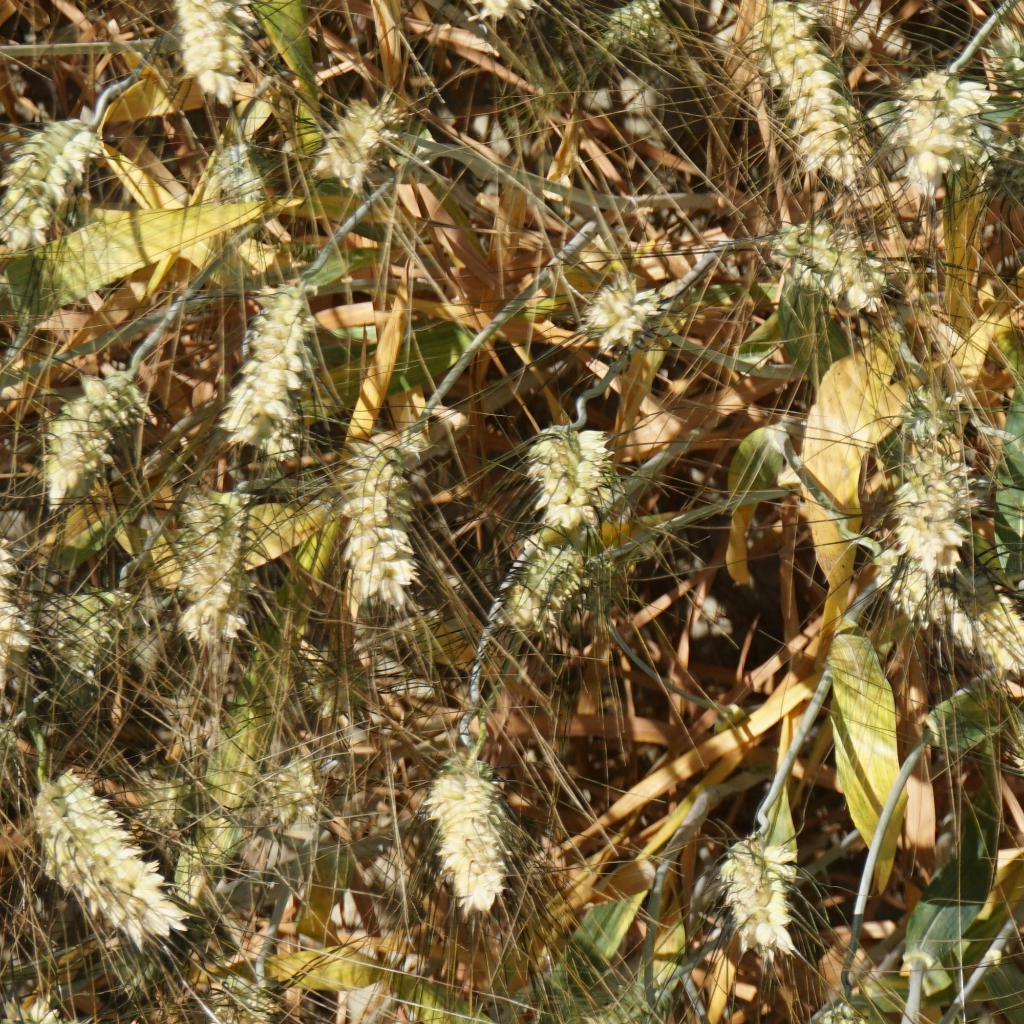0-0: (32, 764, 188, 952), (316, 418, 431, 610), (856, 546, 1024, 674), (751, 0, 866, 186), (399, 751, 527, 899), (158, 480, 254, 653), (22, 371, 143, 507), (0, 115, 106, 267), (222, 284, 318, 448), (499, 406, 627, 529), (135, 0, 273, 107), (0, 493, 64, 721), (709, 826, 802, 977), (898, 59, 987, 185), (772, 209, 880, 308), (885, 467, 984, 572), (154, 662, 237, 761), (496, 539, 580, 635), (315, 93, 396, 190), (287, 643, 378, 723), (45, 590, 134, 668), (580, 272, 658, 353), (125, 763, 213, 827), (892, 382, 967, 448), (570, 979, 668, 1024), (985, 19, 1024, 128), (208, 140, 269, 208), (257, 755, 322, 818), (217, 968, 280, 1024), (573, 549, 624, 609), (600, 0, 661, 47), (811, 989, 887, 1024), (459, 0, 540, 32), (1009, 705, 1024, 786)
